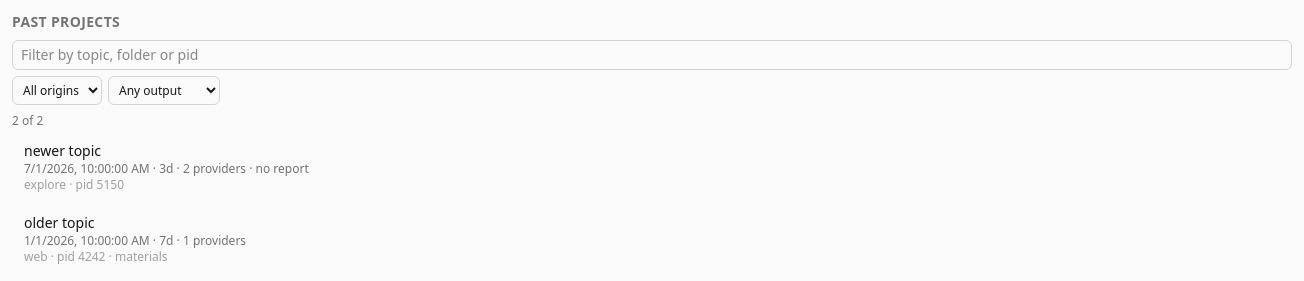
Scenario: ProjectList › filters by origin so a web run can be told from an explore run
Select "explore" in the dropdown named "Filter by origin" at (57, 90), box [12,76,102,105]
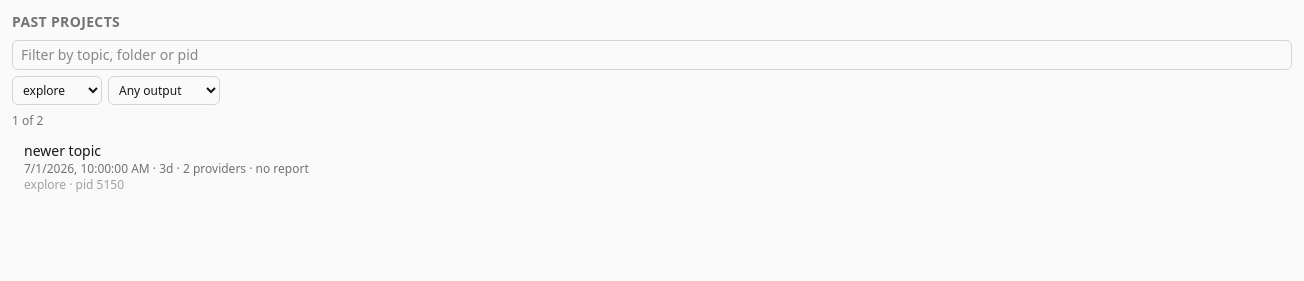
Expected: the text "newer topic" is shown, [24,141,101,160]
Now the button "older topic" is gone
